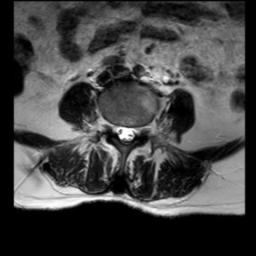CCS_normal: (122, 115, 129, 151)
LFS_normal: (137, 115, 146, 144)
LLS_normal: (129, 117, 137, 145)
RFS_normal: (107, 113, 115, 140)
RLS_normal: (115, 115, 122, 146)
